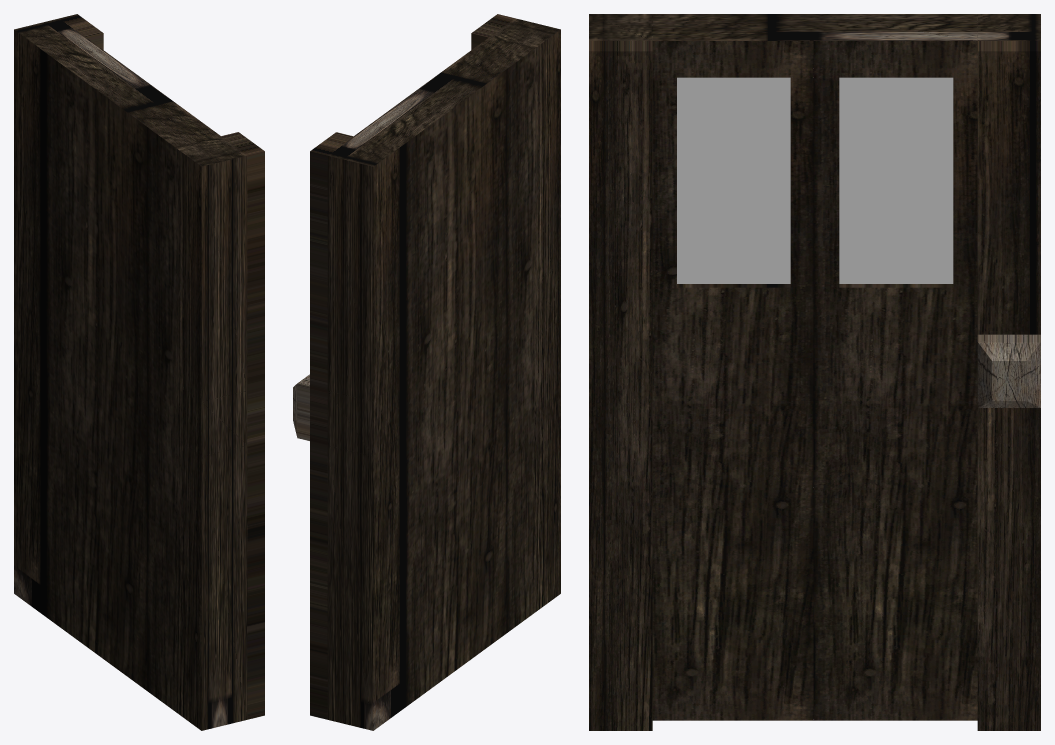
File: Door.fbx
3 renders of one model, left to right at view 1: azimuth 30°, elevation 25°; view 2: azimuth 150°, elevation 25°; view 3: azimuth 270°, elevation 25°, orthographic. The views are drawn at different scales.
Visible parts, largest first — view 1: Cube; view 2: Cube; view 3: Cube.
Part boxes in pixels (box(x1,y1,x2,y2)): Cube: box(14, 14, 264, 730); Cube: box(293, 14, 560, 730); Cube: box(589, 14, 1040, 730).
Bounding box in the file's own units: 45.22 × 283 × 170.
